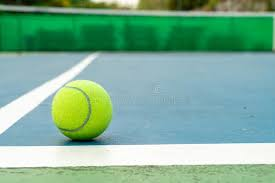tennis_ball: (52, 80, 112, 142)
